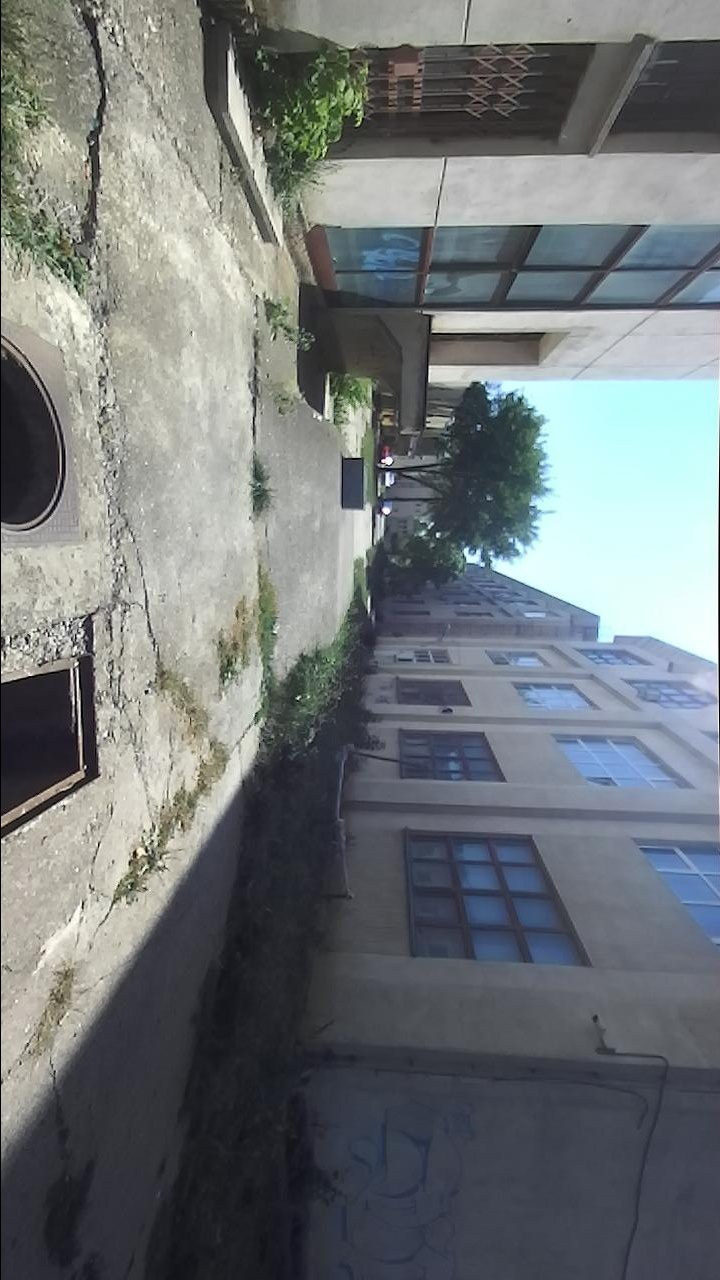drain: (1, 649, 108, 842), (1, 329, 72, 542)
